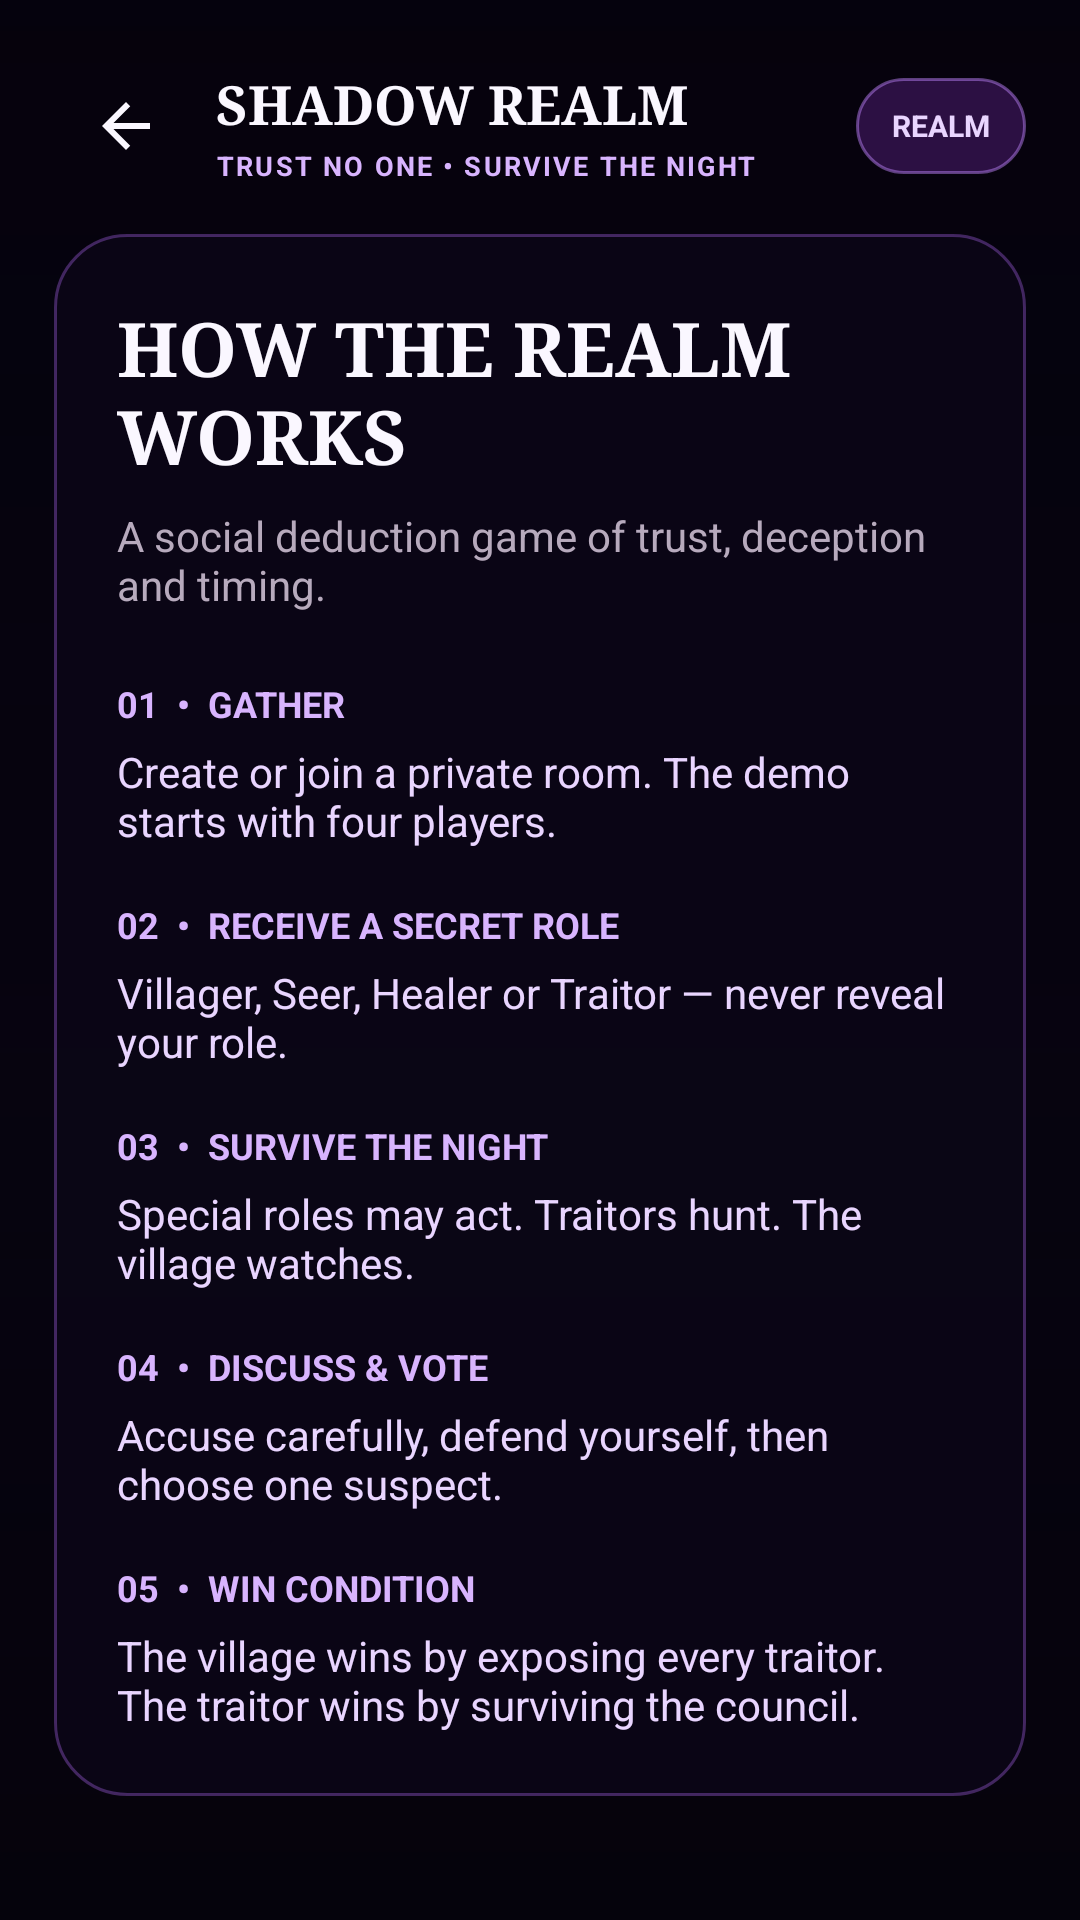

Where icons sit on this 1080w x 1920h app screen, as (x1, y1, x2, y2):
Back: (102, 102, 150, 150)
